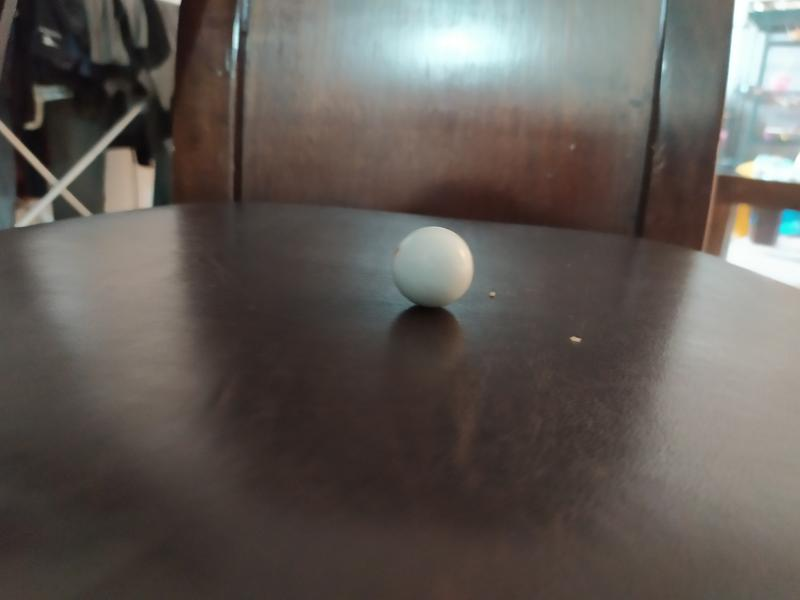Warning: (390, 224, 477, 310)
